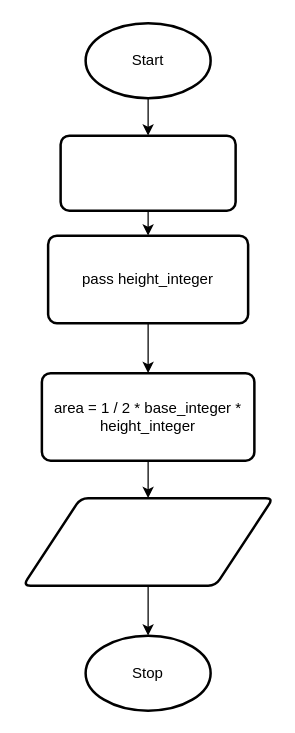
The diagram is 295 pixels wide and 733 high, and some of its shapes have lost their labels. Here are the shapes that lost their labels. From the top down, the centre of each, then its label:
(x=147, y=172): pass base_integer
(x=147, y=541): Print "The area of the triangle is area."
